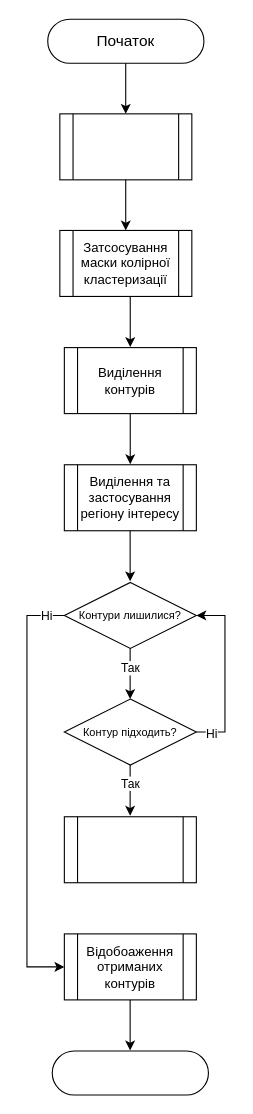
Some shapes in this 253 by 1114 pixel diagram are drawn without their labels. The box of each missing label's shape, as (x1, y1, x2, y2) in pixels:
Виконання морфологічних операцій: (59, 113, 192, 180)
Додавання контуру до списку: (63, 816, 196, 883)
Кінець: (51, 1050, 208, 1095)
